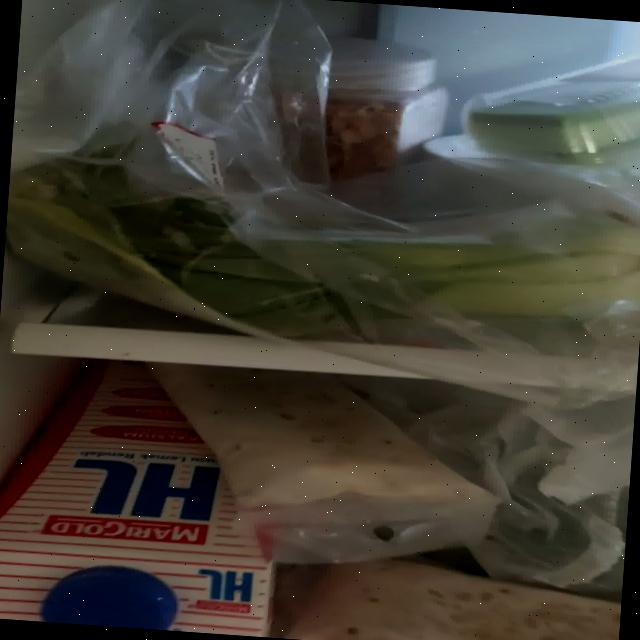pakchoy: (0, 150, 640, 361)
tempeh: (130, 360, 493, 520), (281, 549, 622, 640)
